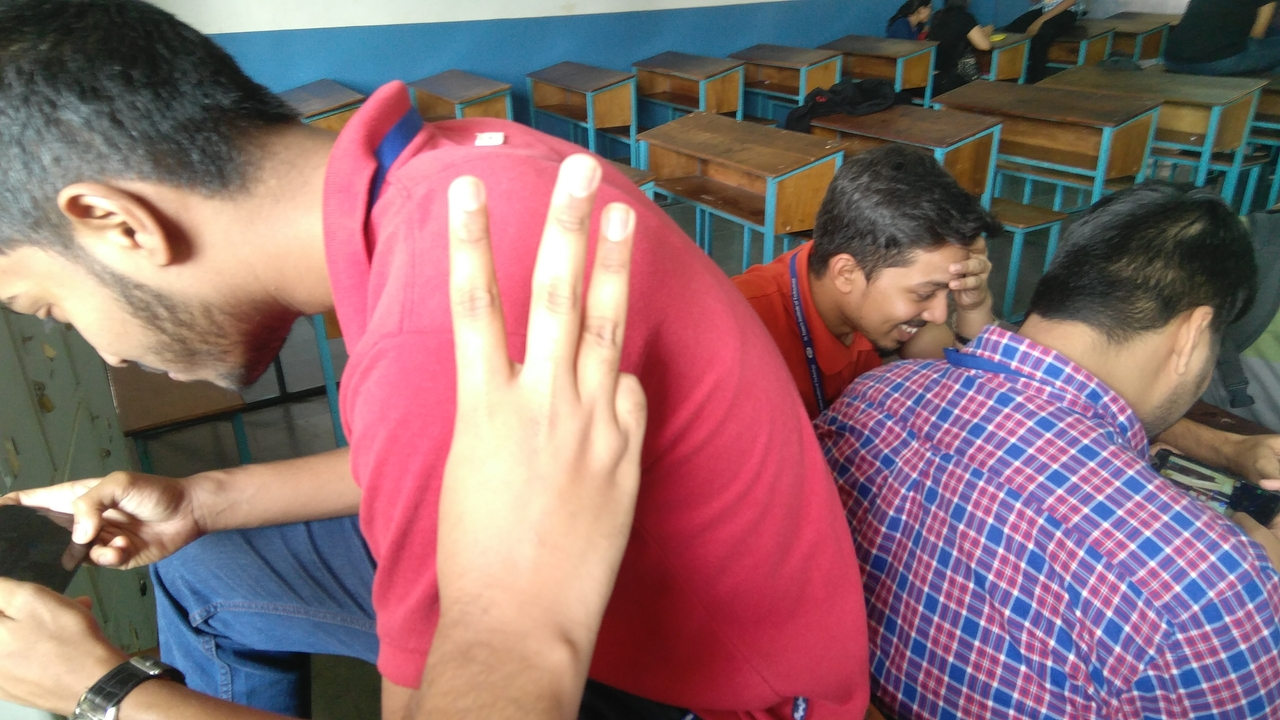fingertip: (542, 140, 604, 218), (594, 202, 654, 256), (438, 174, 484, 230)
